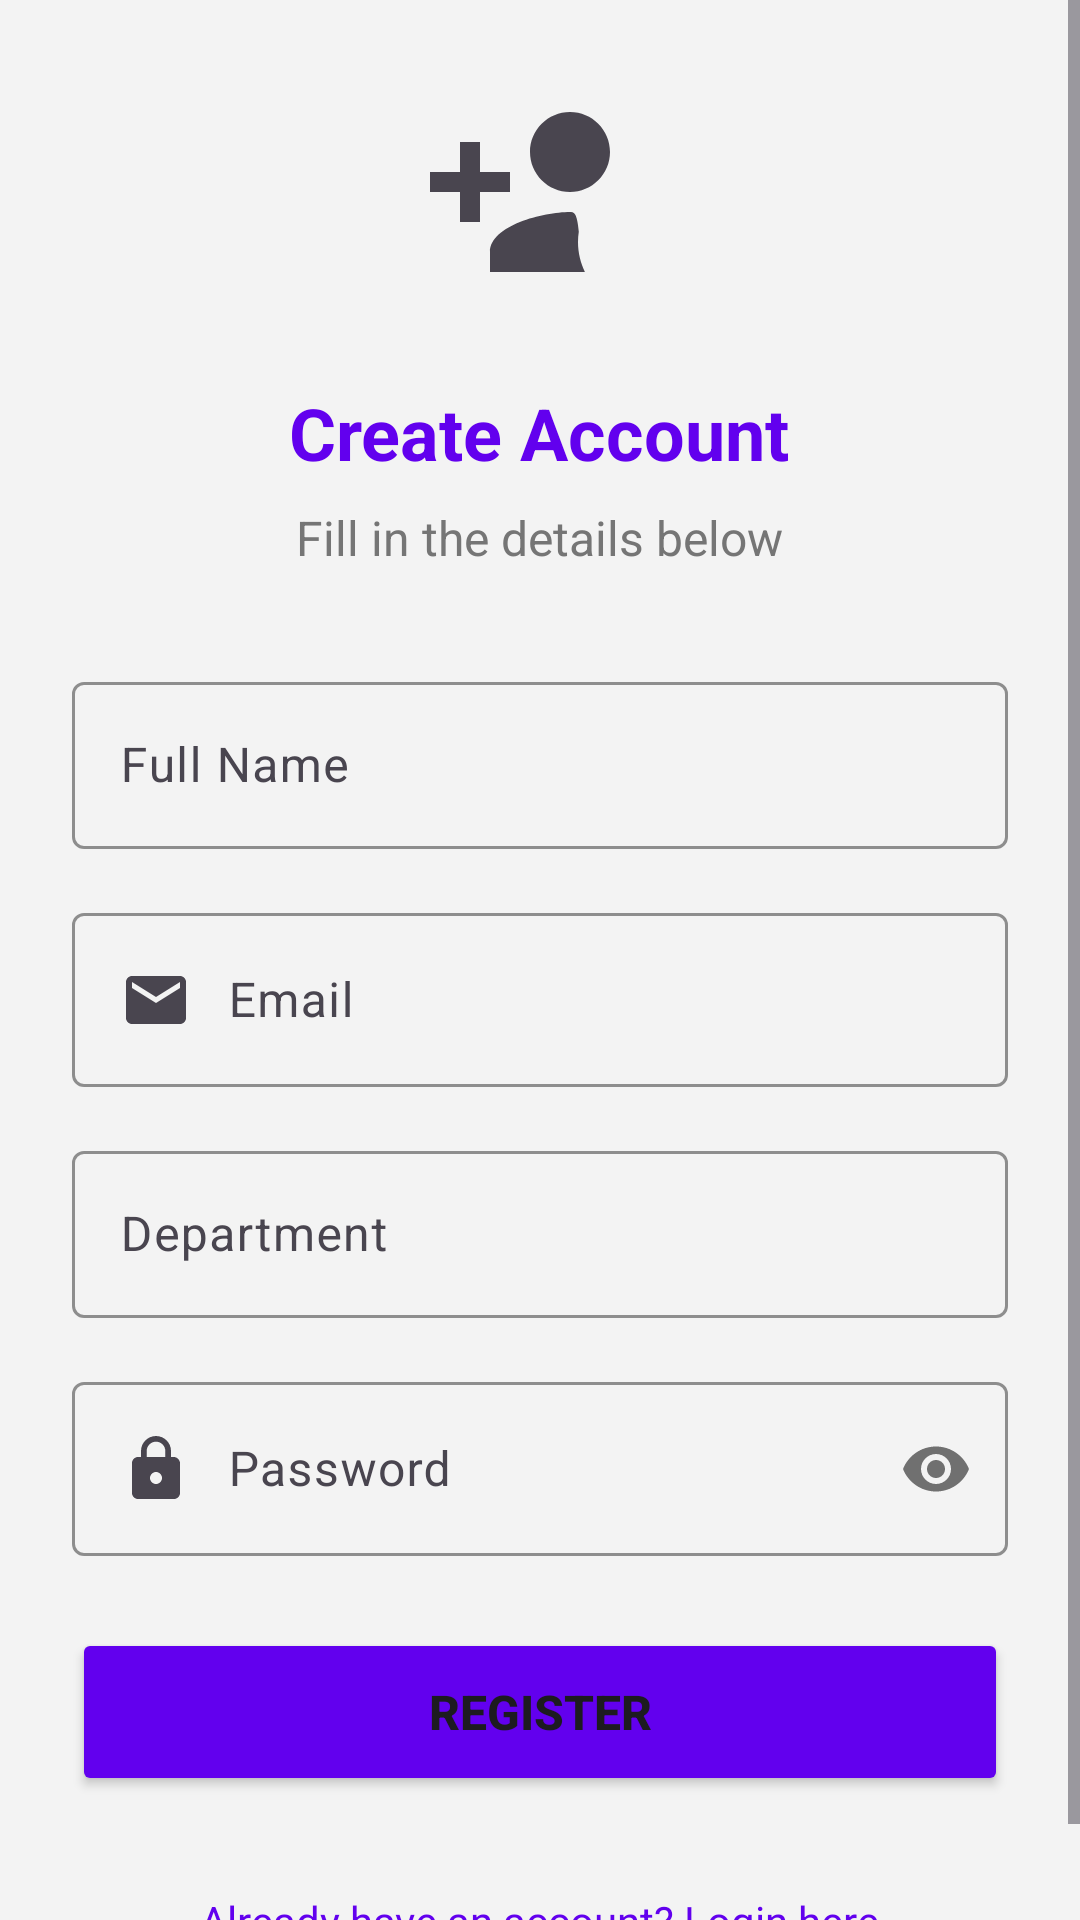

Where to tap for icons on this 1080x1920 app screen, as (x=x, y=y):
Register Icon: (x=520, y=192)
